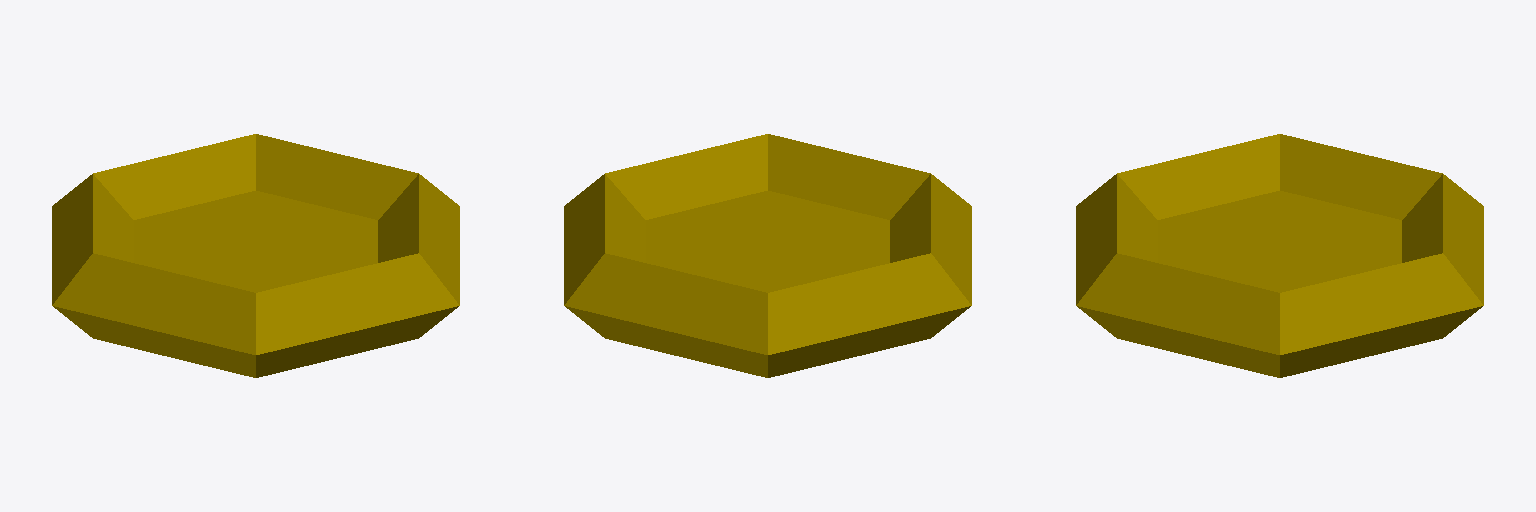
Rendered from fancy-bullet.obj.
The picture shows the model from 3 angles: view 1: azimuth 30°, elevation 25°; view 2: azimuth 150°, elevation 25°; view 3: azimuth 270°, elevation 25°; orthographic projection.
Visible parts, largest first — view 1: Torus.001; view 2: Torus.001; view 3: Torus.001.
Boxes of the visible parts, x1=… form: Torus.001: x1=52, y1=134, x2=459, y2=377; Torus.001: x1=564, y1=134, x2=971, y2=377; Torus.001: x1=1076, y1=134, x2=1483, y2=377.
Bounding box in the file's own units: 0.625 × 0.125 × 0.5413.